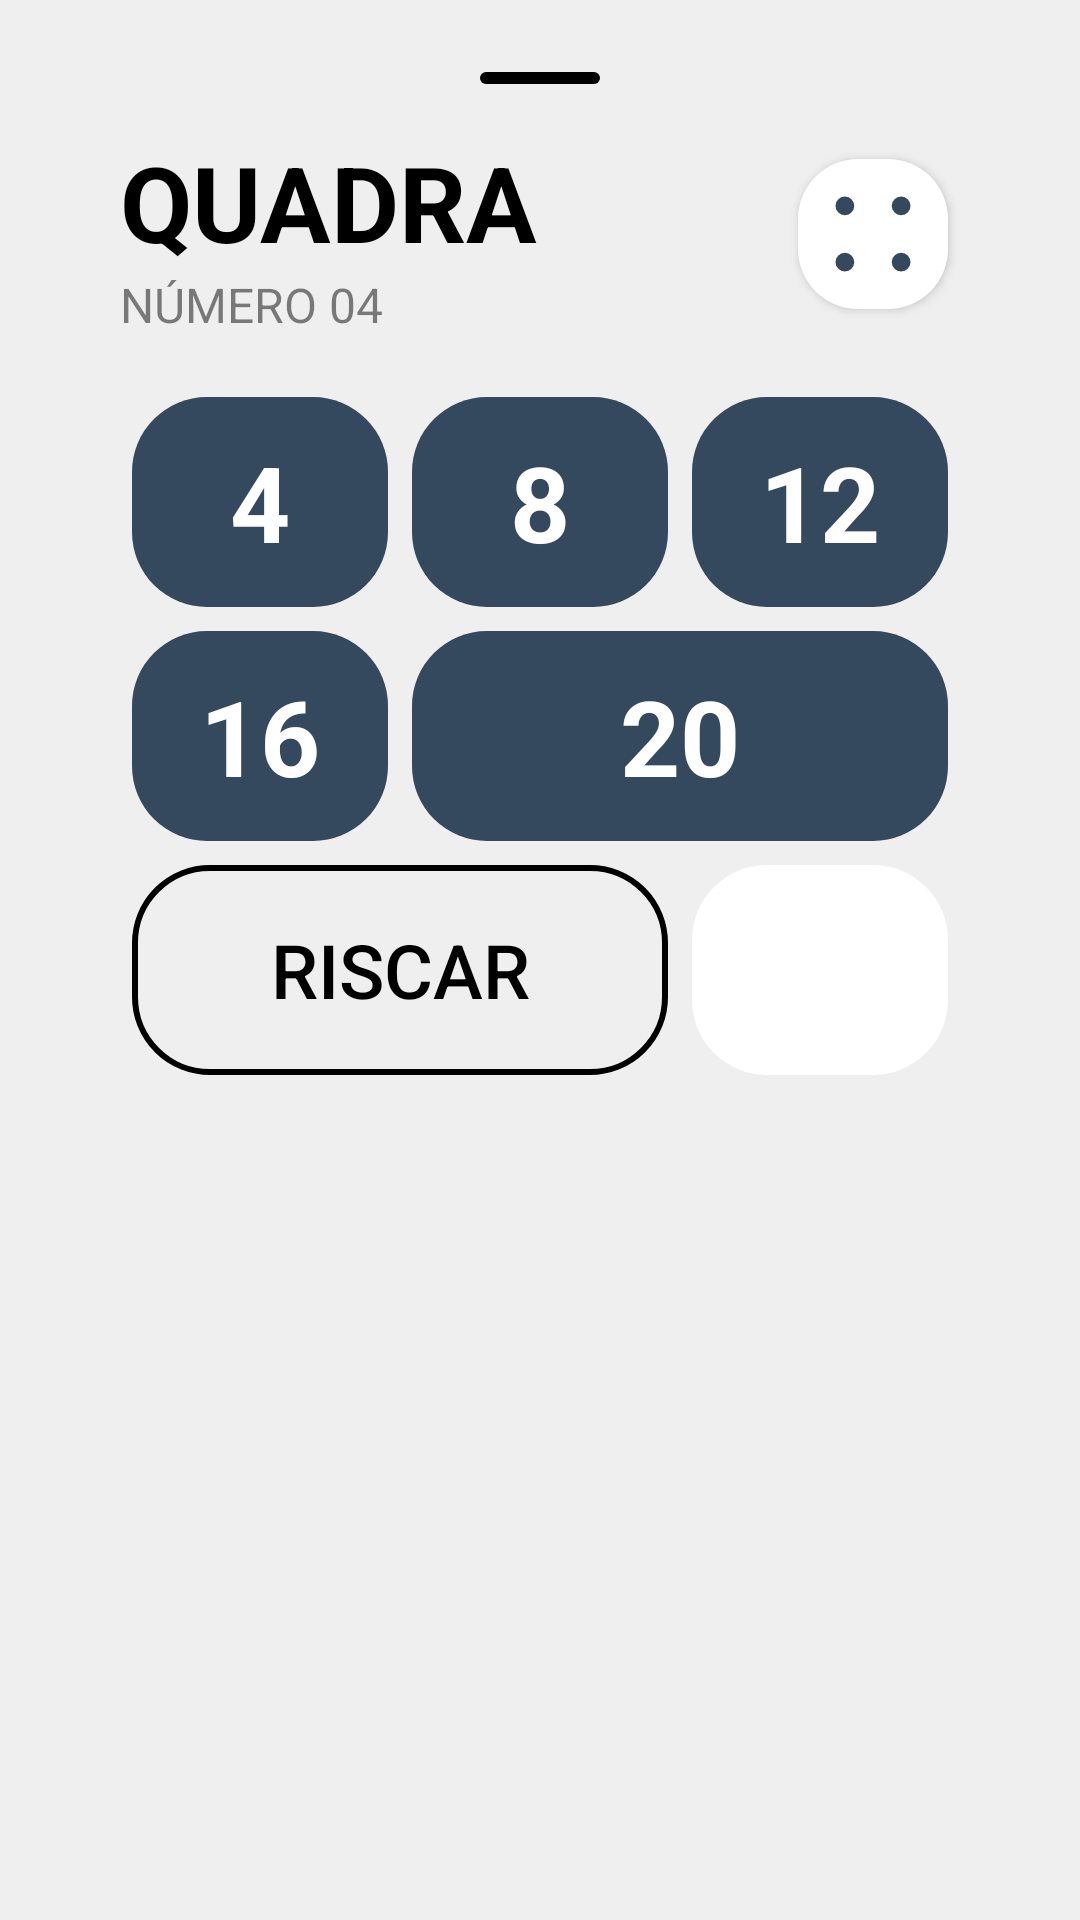

Point at icon controls on the screen. Image size 1080 × 1920, points as (x,y).
dice: (873,234)
